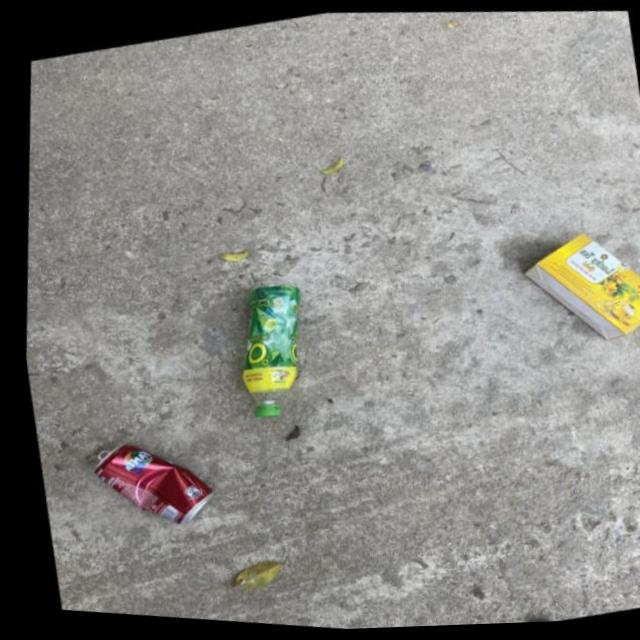clothes: (63, 404, 223, 547)
leaf: (189, 230, 354, 453)
plastic bag: (187, 534, 312, 604)
trash: (488, 192, 640, 388)
